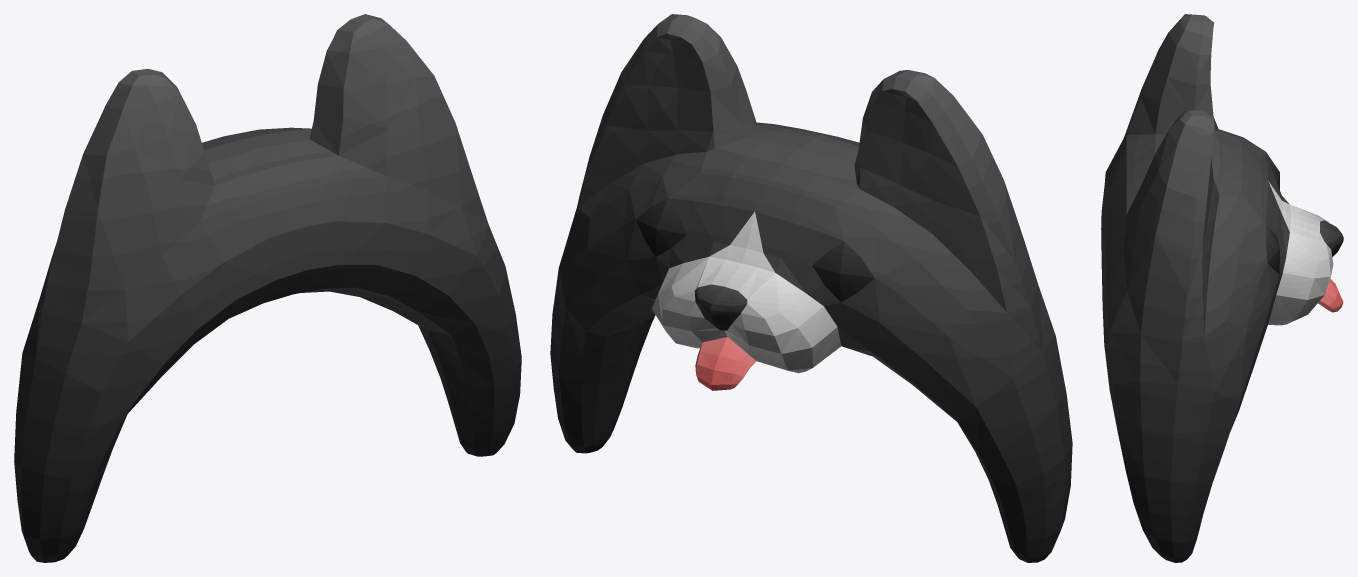
Rendered from CharSkyKid_Horn_OreoHeadband.glb.
3 renders of one model, left to right at view 1: azimuth 30°, elevation 25°; view 2: azimuth 150°, elevation 25°; view 3: azimuth 270°, elevation 25°, orthographic. The views are drawn at different scales.
Parts seen in each view (by area): view 1: CharSkyKid_Horn_OreoHeadband; view 2: CharSkyKid_Horn_OreoHeadband; view 3: CharSkyKid_Horn_OreoHeadband.
Part boxes in pixels (box(x1,y1,x2,y2)): CharSkyKid_Horn_OreoHeadband: box(14, 14, 521, 562); CharSkyKid_Horn_OreoHeadband: box(550, 14, 1072, 562); CharSkyKid_Horn_OreoHeadband: box(1101, 14, 1343, 562).
Size of the model in its own units: 2.97 by 2.61 by 1.43.
Materials: 1 (1 with a texture image).
